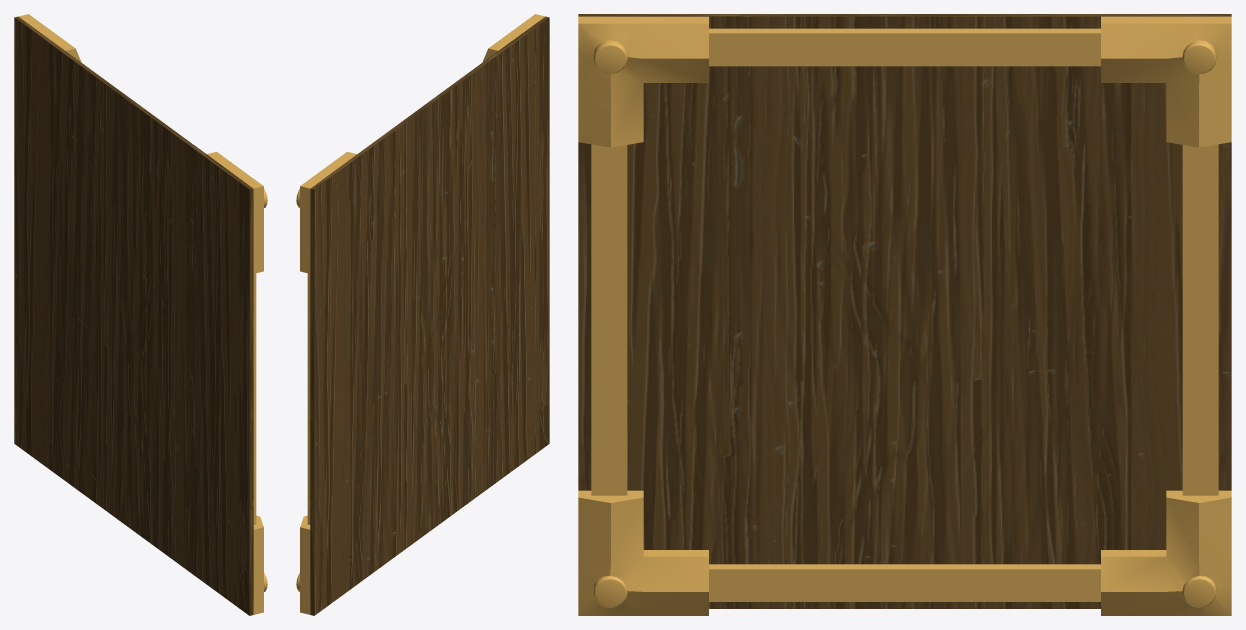
The model's file is Boarder.glb.
3 renders of one model, left to right at view 1: azimuth 30°, elevation 25°; view 2: azimuth 150°, elevation 25°; view 3: azimuth 270°, elevation 25°, orthographic. The views are drawn at different scales.
Parts seen in each view (by area): view 1: Cube.001; view 2: Cube.001; view 3: Cube.001.
Part boxes in pixels (left/top/right/bottom): Cube.001: left=14, top=14, right=267, bottom=615; Cube.001: left=296, top=14, right=549, bottom=615; Cube.001: left=578, top=14, right=1231, bottom=615.
Bounding box in the file's own units: 0.0119 × 0.2 × 0.2.
Materials: 2 (1 with a texture image).
